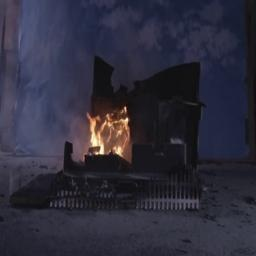fire: (81, 98, 137, 163)
